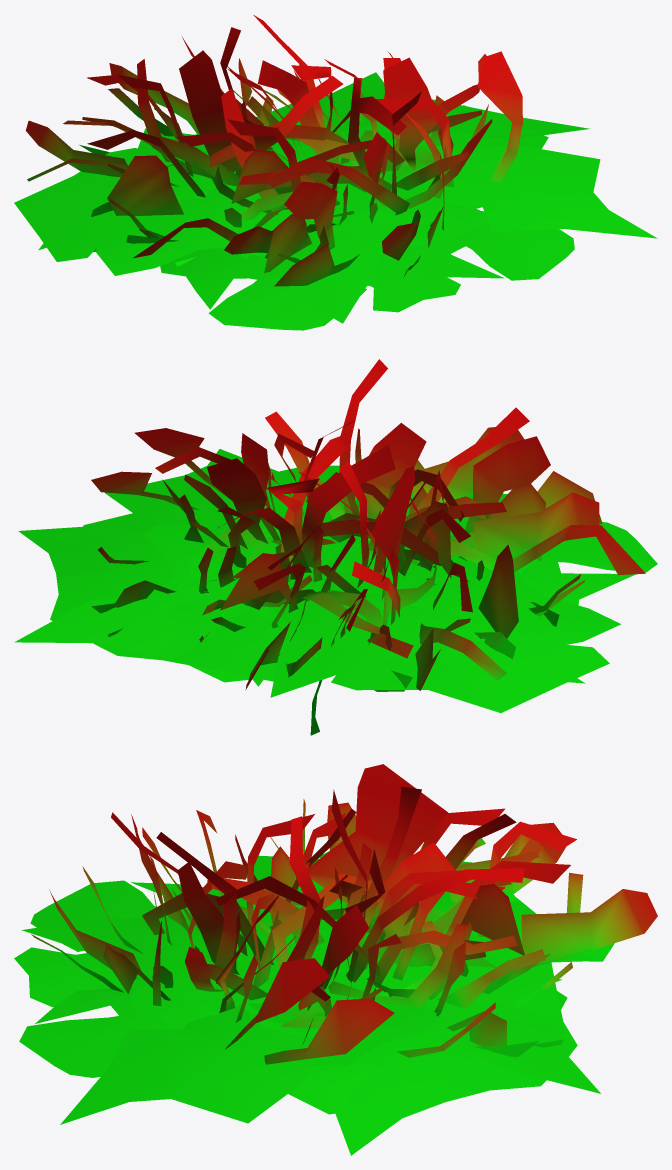
File: Wild Grass_LOD0_Var17_vdilbaiia.fbx
3 renders of one model, top to bottom at view 1: azimuth 30°, elevation 25°; view 2: azimuth 150°, elevation 25°; view 3: azimuth 270°, elevation 25°, orthographic. The views are drawn at different scales.
Visible parts, largest first — view 1: _h1kr_Var17_LOD0; view 2: _h1kr_Var17_LOD0; view 3: _h1kr_Var17_LOD0.
Part boxes in pixels (<box>): _h1kr_Var17_LOD0: <box>14,15,657,330</box>; _h1kr_Var17_LOD0: <box>14,359,657,735</box>; _h1kr_Var17_LOD0: <box>14,764,657,1155</box>.
Bounding box in the file's own units: 88.31 × 27.87 × 79.39.
